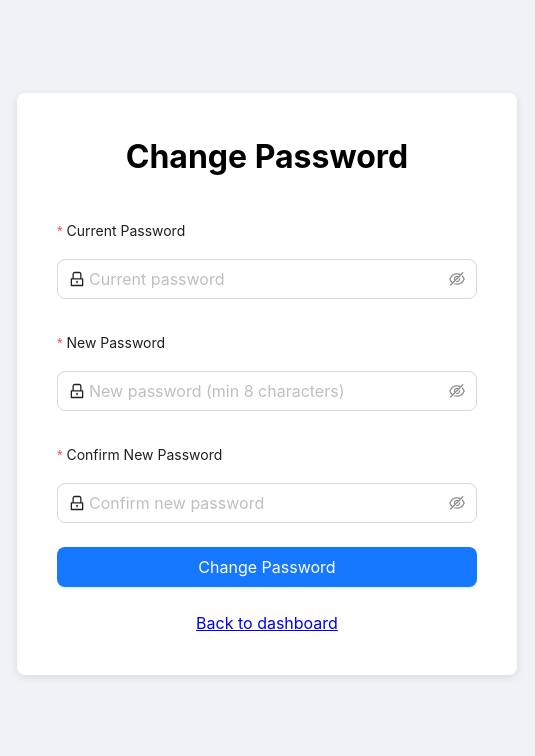
PasswordChangePage › Loading State › should disable form during password change
The width and height of the screenshot is (535, 756).
Type "oldpass123" into the password field labelled "Current Password" at (267, 279), box left=89, top=267, right=445, bottom=291
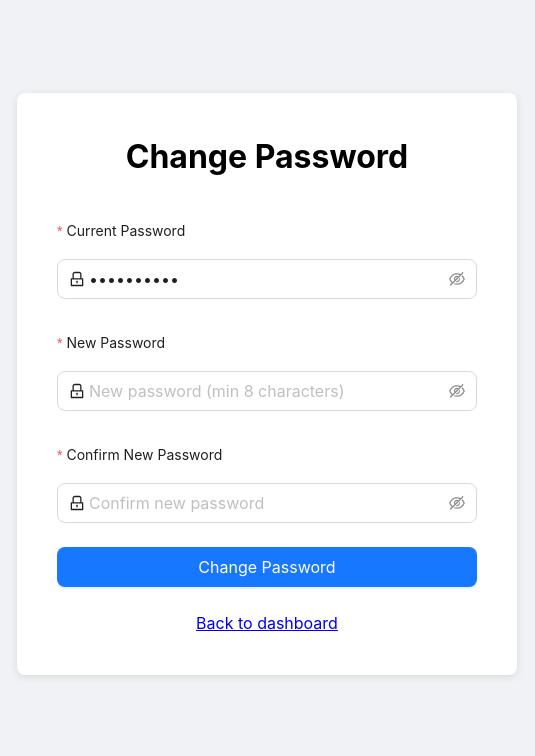
Type "newpass123" into the password field labelled "New Password" at (267, 391), box left=89, top=379, right=445, bottom=403
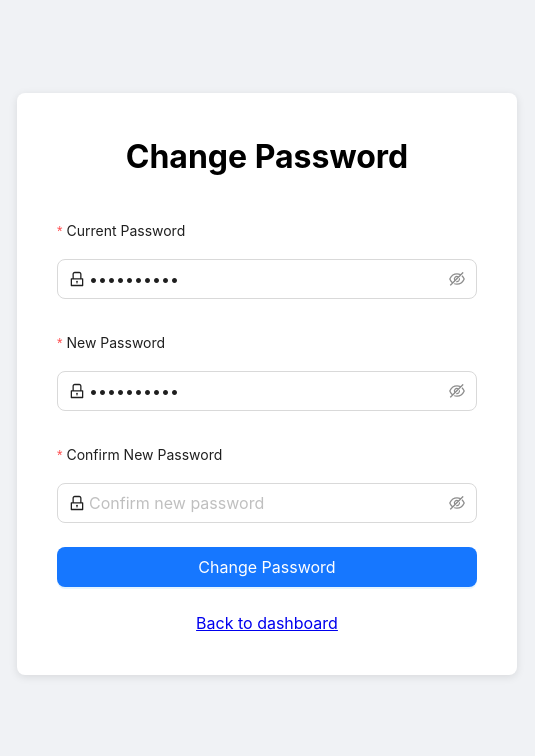
Type "newpass123" into the password field labelled "Confirm New Password" at (267, 503), box left=89, top=491, right=445, bottom=515
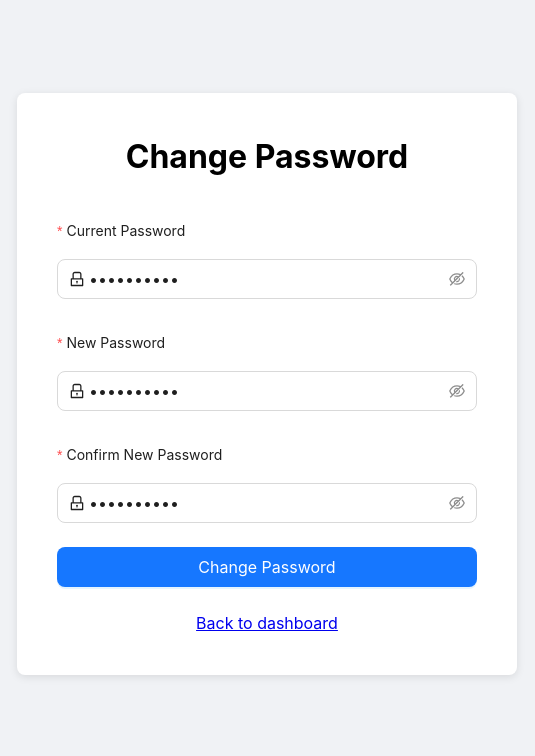
Click the button "Change Password" at (267, 567), box left=57, top=547, right=477, bottom=587
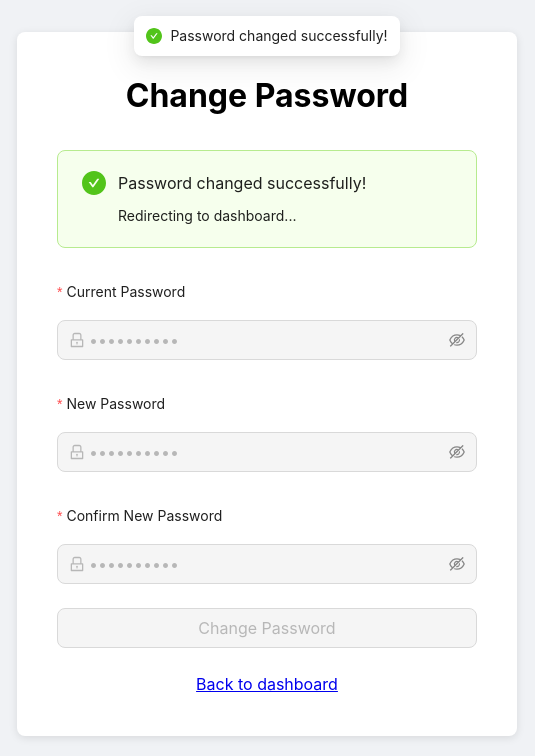
Expected: the password field labelled "Current Password" is disabled, left=89, top=328, right=445, bottom=352
Expected: the password field labelled "New Password" is disabled, left=89, top=440, right=445, bottom=464
Expected: the password field labelled "Confirm New Password" is disabled, left=89, top=552, right=445, bottom=576
